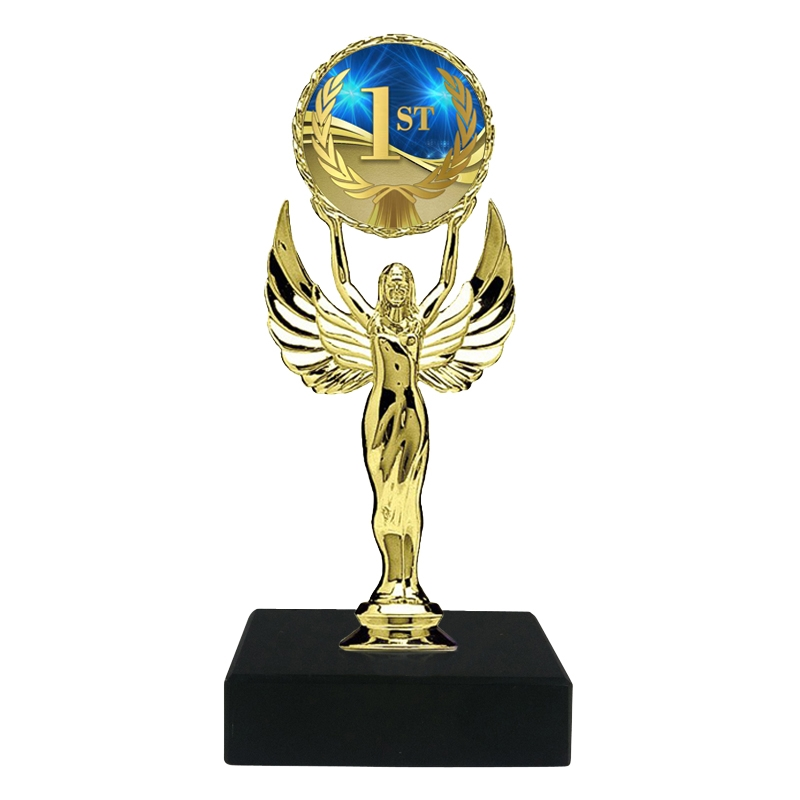trophy: (215, 23, 579, 772)
